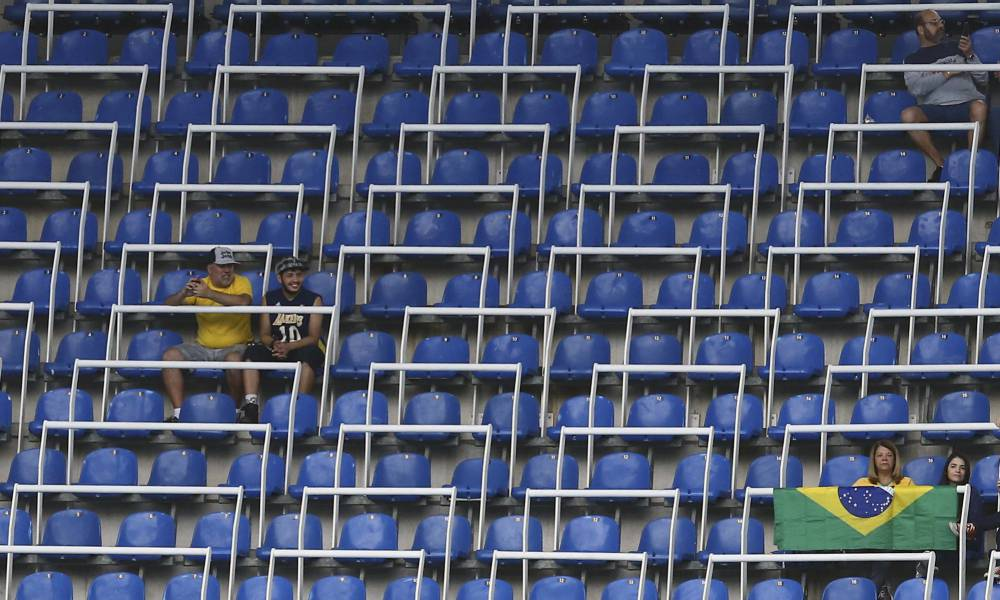Person: (162, 246, 253, 426), (900, 11, 987, 183), (237, 255, 326, 422), (936, 451, 982, 555), (847, 440, 916, 487)
